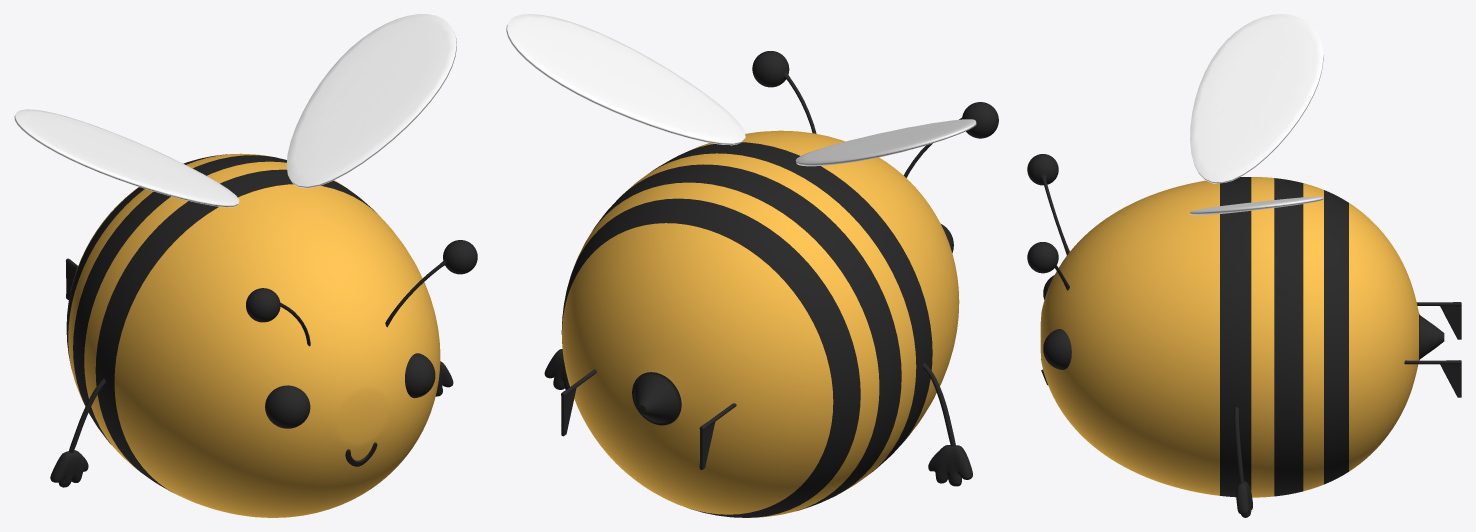
Rendered from fly.glb.
3 renders of one model, left to right at view 1: azimuth 30°, elevation 25°; view 2: azimuth 150°, elevation 25°; view 3: azimuth 270°, elevation 25°, orthographic. The views are drawn at different scales.
Visible parts, largest first — view 1: Bee; view 2: Bee; view 3: Bee.
Part boxes in pixels (box(x1,y1,x2,y2)): Bee: box(14, 14, 477, 517); Bee: box(506, 14, 998, 517); Bee: box(1027, 14, 1461, 517).
Bounding box in the file's own units: 0.00627 × 0.00574 × 0.00603.
